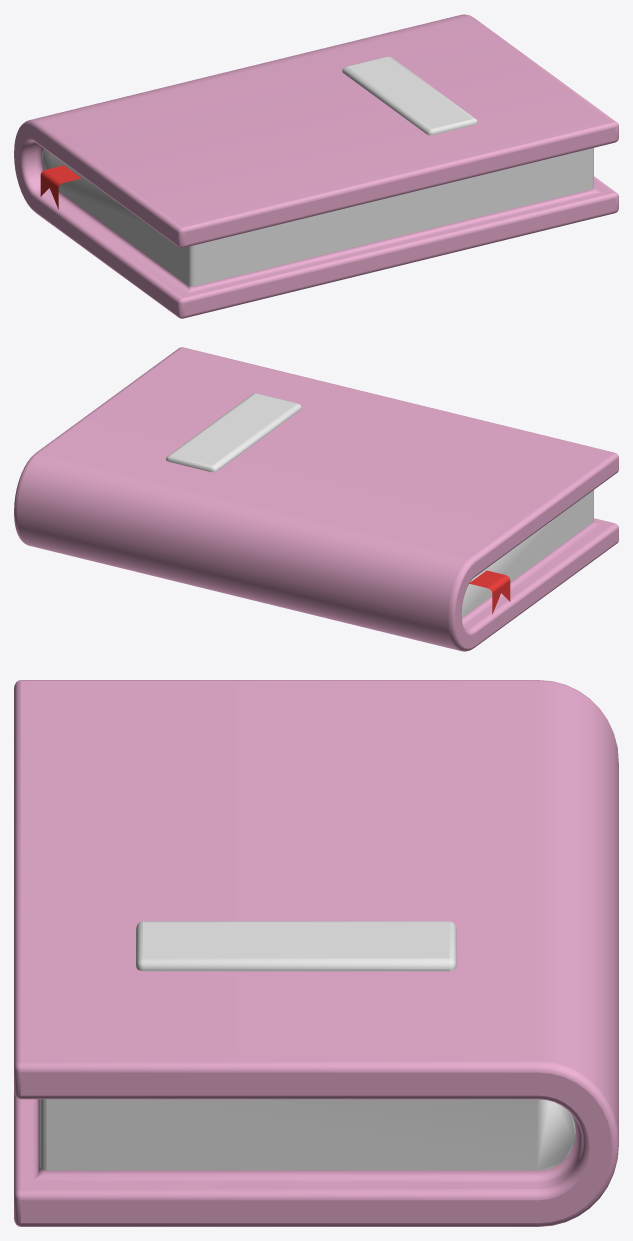
Rendered from study.glb.
3 renders of one model, top to bottom at view 1: azimuth 30°, elevation 25°; view 2: azimuth 150°, elevation 25°; view 3: azimuth 270°, elevation 25°, orthographic. The views are drawn at different scales.
Parts seen in each view (by area): view 1: book.001; view 2: book.001; view 3: book.001.
Boxes of the visible parts, left/top/right/bottom form: book.001: left=14, top=14, right=618, bottom=318; book.001: left=14, top=347, right=618, bottom=651; book.001: left=14, top=680, right=618, bottom=1226.
Size of the model in its own units: 1.93 by 0.3951 by 1.25.
